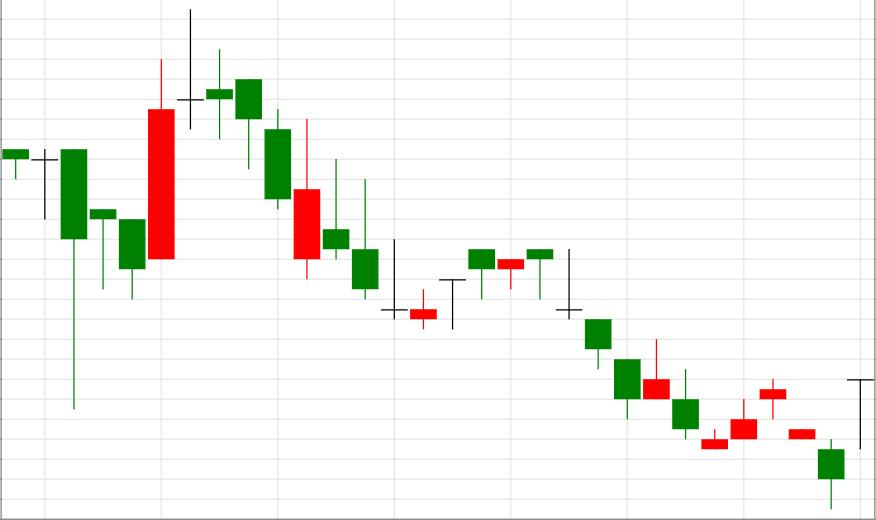hanging_man_fall: (118, 8, 262, 299)
